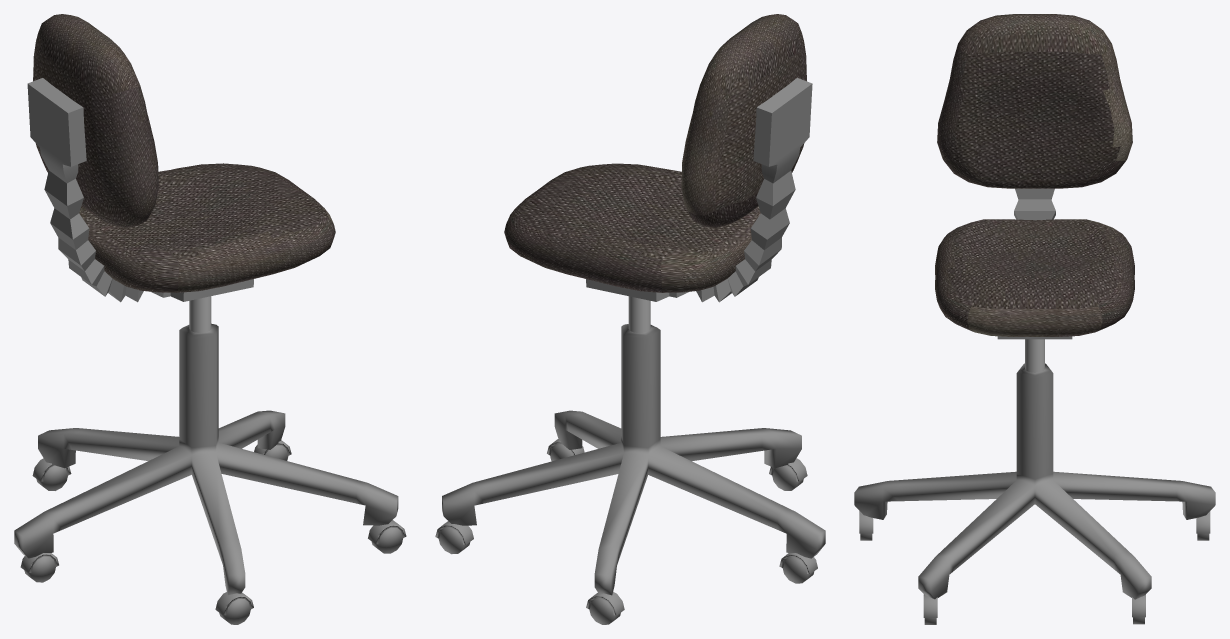
Rendered from rolling_chair_adjustable.fbx.
3 views of the same model, side by side, from view 1: azimuth 30°, elevation 25°; view 2: azimuth 150°, elevation 25°; view 3: azimuth 270°, elevation 25° (orthographic). The views are drawn at different scales.
Visible parts, largest first — view 1: base, seat, seat_back, back_support, post, wheel, wheel3, wheel4; view 2: base, seat, seat_back, back_support, post, wheel, wheel2, wheel1; view 3: seat_back, seat, base, back_support, post.
Part boxes in pixels (x1,y1,x2,y2): base: (14,323,398,595); seat: (79,163,335,292); seat_back: (33,14,158,227); back_support: (27,78,253,302); post: (189,296,211,333); wheel: (24,556,55,582); wheel3: (219,598,250,624); wheel4: (371,527,402,553); base: (442,324,825,595); seat: (504,163,760,292); seat_back: (681,14,806,227); back_support: (586,77,812,302); post: (628,296,650,333); wheel: (782,557,814,583); wheel2: (589,598,620,624); wheel1: (438,528,470,554); seat_back: (937,14,1132,188); seat: (935,219,1134,336); base: (854,363,1215,599); back_support: (997,188,1072,339); post: (1025,339,1044,372).
Bounding box in the file's own units: 1.89 × 2.98 × 1.97.
3 materials, 1 textured.
